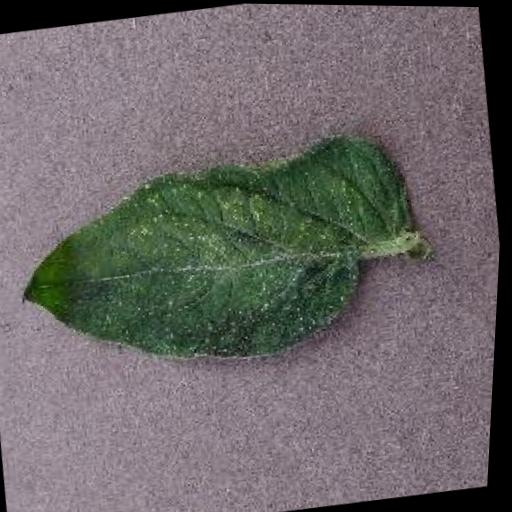Spider Mites: (2, 119, 436, 387)
